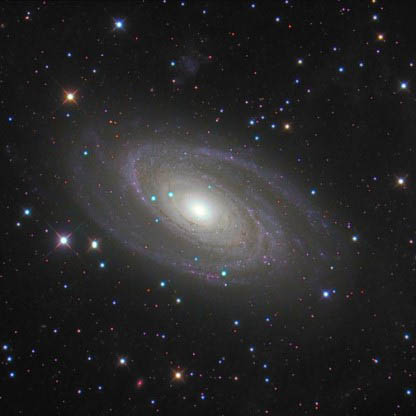Messier 81: (49, 82, 369, 315)
